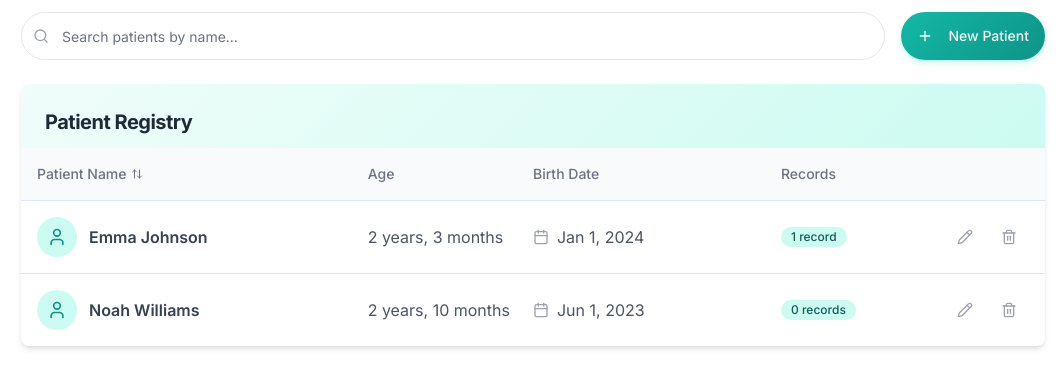
Test: PatientList › filters patients by search query
Type "Emma" into the field with placeholder "Search patients by name...".
click(453, 36); type("Emma")  # box [21,12,884,60]
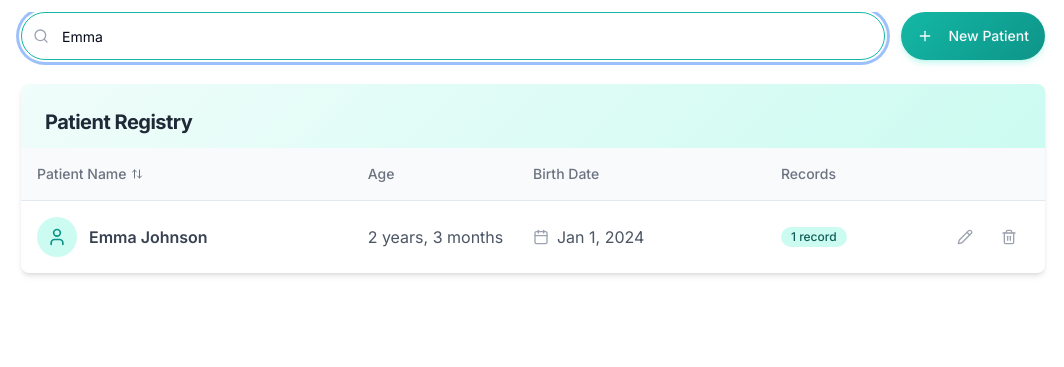
Check: the text "Emma Johnson" is shown, box [89,225,208,249]
Check: the text "Noah Williams" is gone
